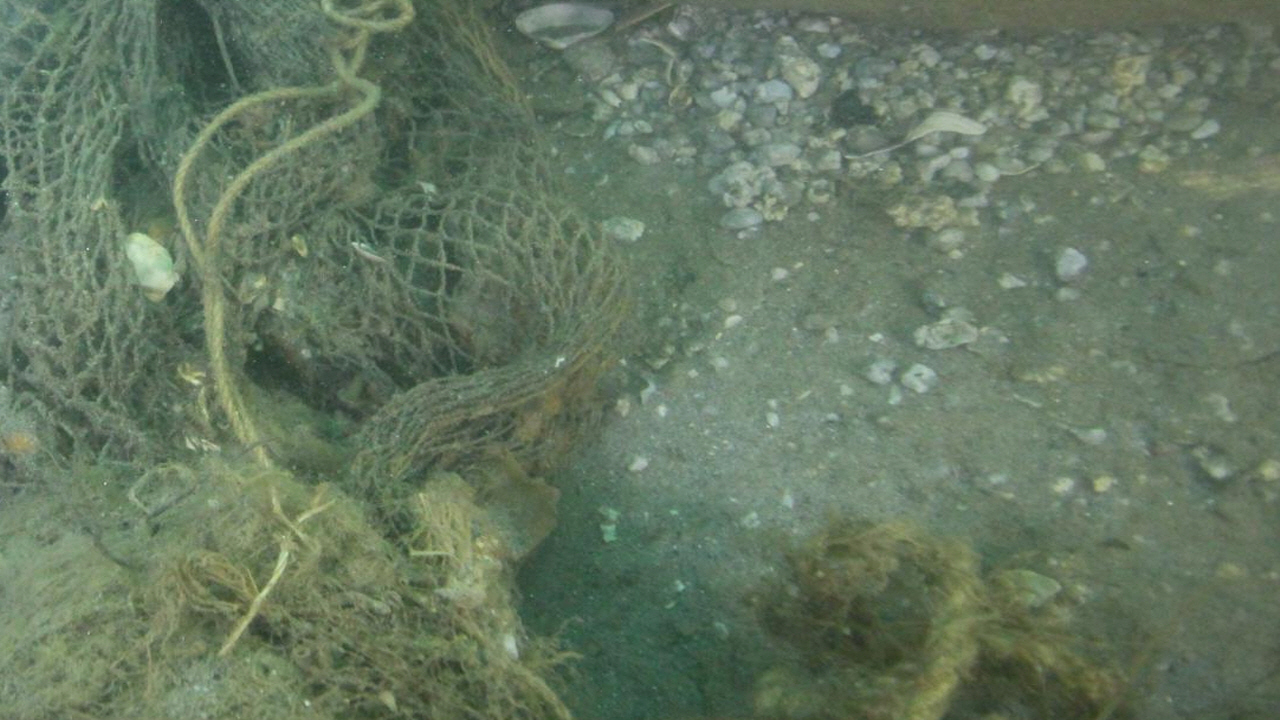fish net: (0, 0, 634, 504)
rope: (905, 538, 977, 720)
